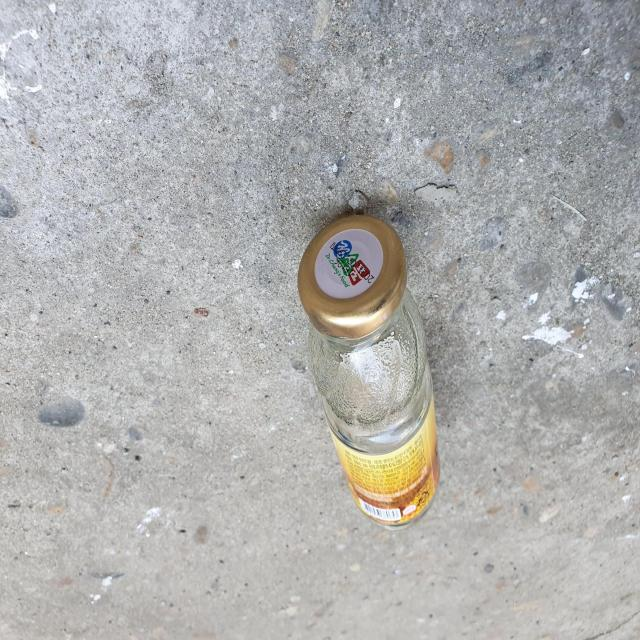glass: (298, 215, 440, 527)
